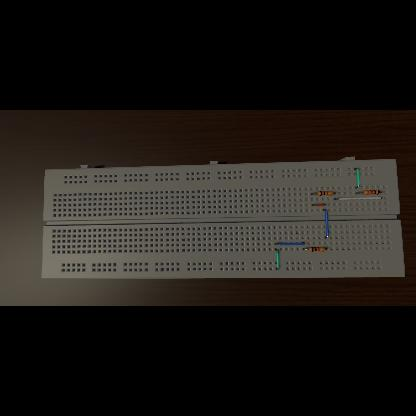breadboard: (41, 157, 405, 280)
resistor: (363, 191, 381, 196), (308, 248, 326, 252), (317, 192, 333, 196)
wire: (354, 168, 360, 188), (324, 209, 328, 238), (334, 198, 382, 200), (275, 250, 279, 270), (275, 243, 305, 245), (312, 204, 326, 206), (356, 192, 364, 194), (303, 248, 309, 250), (325, 248, 327, 250), (380, 192, 382, 192), (334, 194, 336, 194), (311, 194, 317, 194)
